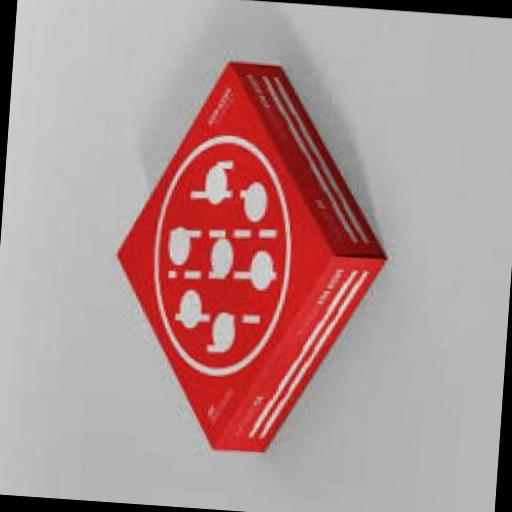cardboard: (100, 52, 397, 459)
